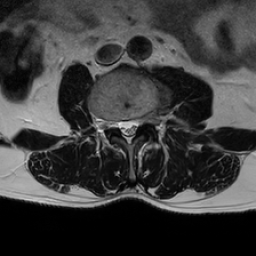CCS_normal: (124, 110, 132, 150)
LFS_normal: (140, 105, 149, 132)
LLS_normal: (132, 109, 140, 140)
RFS_normal: (108, 110, 116, 137)
RLS_normal: (116, 112, 124, 138)
